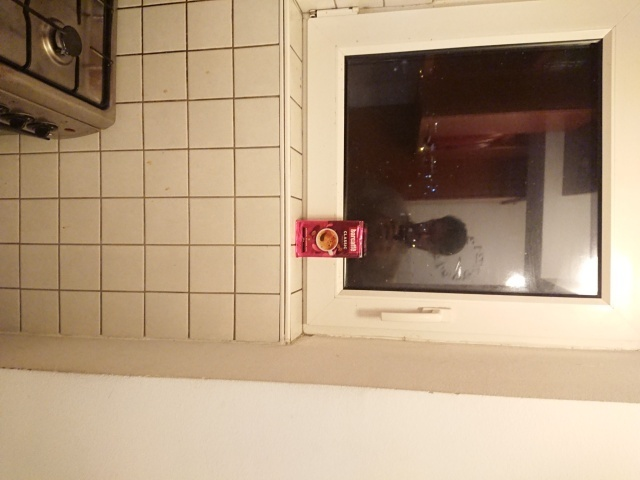Barcaffe Classic Original 225g: (293, 217, 370, 261)
